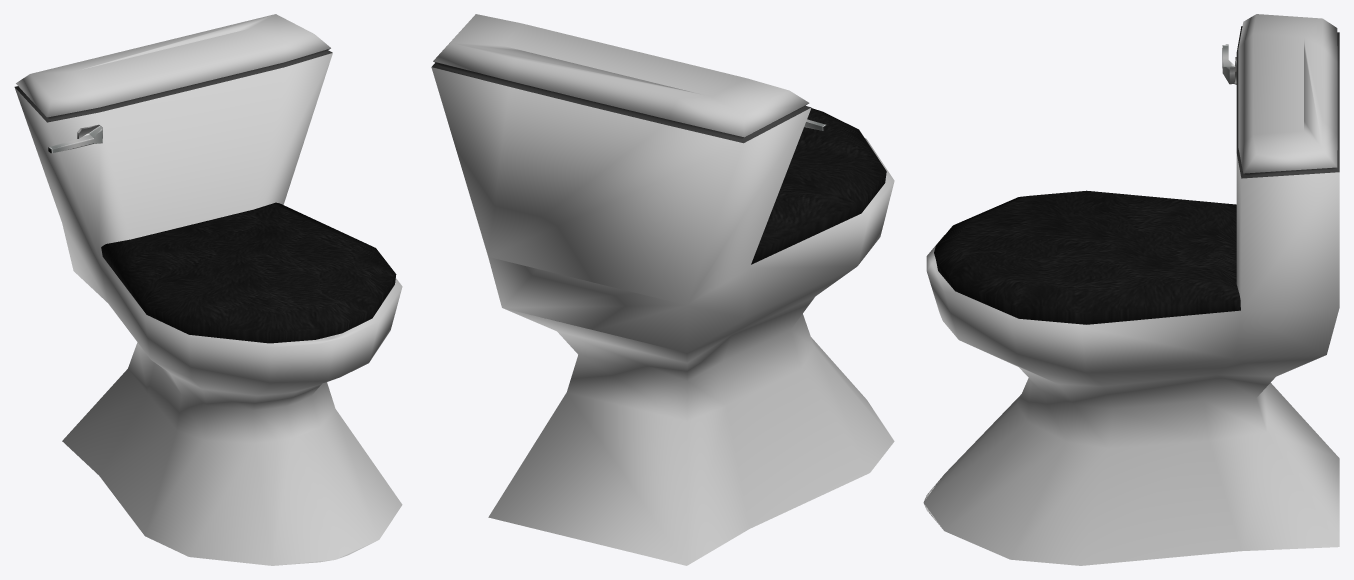
The model's file is Potty_H.FBX.
The picture shows the model from 3 angles, left to right: view 1: azimuth 30°, elevation 25°; view 2: azimuth 150°, elevation 25°; view 3: azimuth 270°, elevation 25°; orthographic projection. The views are drawn at different scales.
Visible parts, largest first — view 1: Potty; view 2: Potty; view 3: Potty.
Boxes of the visible parts, box(x1,y1,x2,y2) form: Potty: box(14, 14, 402, 565); Potty: box(431, 14, 894, 565); Potty: box(923, 14, 1339, 565).
Size of the model in its own units: 140 by 176 by 159.
